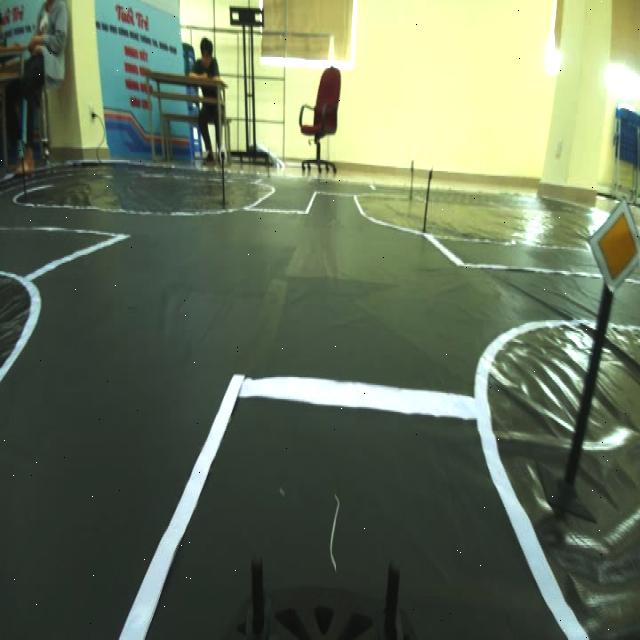priority: (576, 194, 640, 305)
